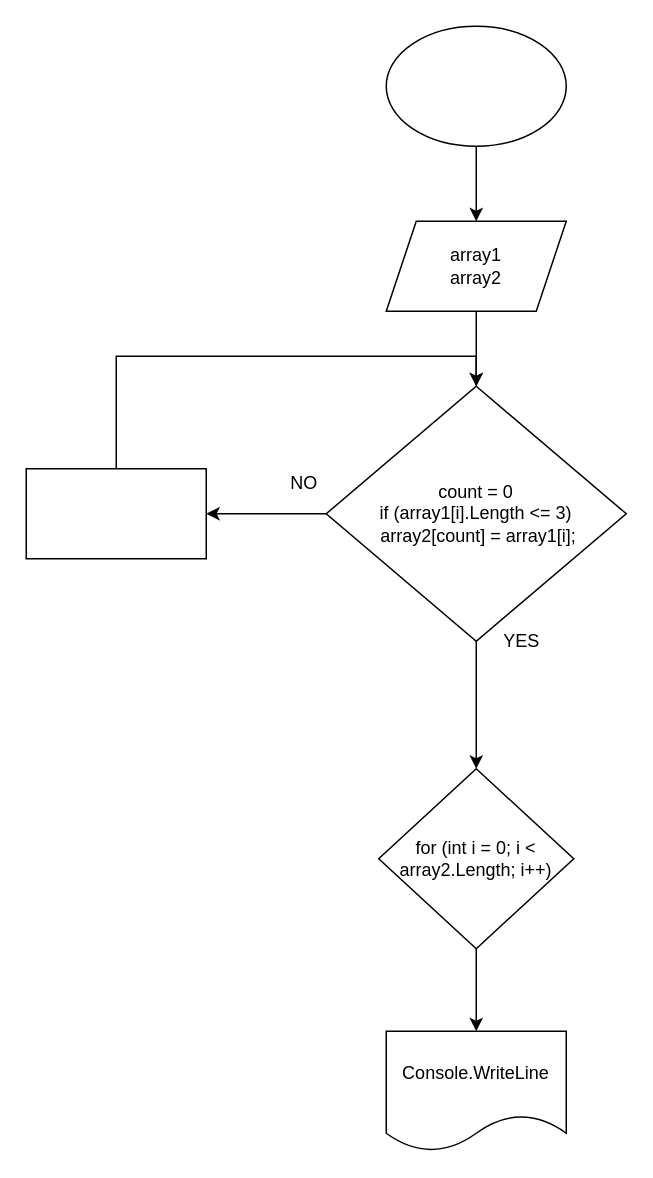
This 653x1178 diagram has some shape labels left out. The shapes that lost their labels are listed below. From the top down, each one's box as (x1, y1, x2, y2) in pixels, then its label:
(385, 25, 566, 146): START
(25, 467, 206, 559): count++;
